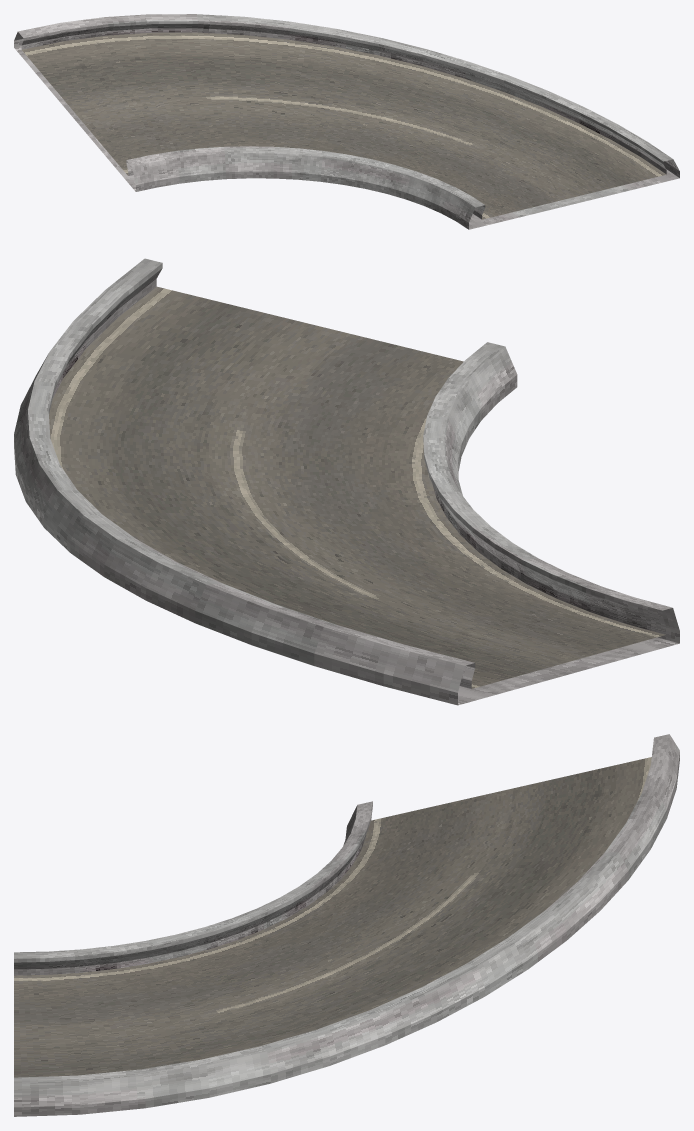
Rendered from road-Turn-Flat-HalfBankedLeft-Even-Left-Size2.glb.
3 views of the same model, one above another, from view 1: azimuth 30°, elevation 25°; view 2: azimuth 150°, elevation 25°; view 3: azimuth 270°, elevation 25° (orthographic). The views are drawn at different scales.
Visible parts, largest first — view 1: road-Turn-Flat-HalfBankedLeft-Even-Left-Size2; view 2: road-Turn-Flat-HalfBankedLeft-Even-Left-Size2; view 3: road-Turn-Flat-HalfBankedLeft-Even-Left-Size2.
Part boxes in pixels (bbox=[...]): road-Turn-Flat-HalfBankedLeft-Even-Left-Size2: bbox=[14, 14, 679, 229]; road-Turn-Flat-HalfBankedLeft-Even-Left-Size2: bbox=[14, 258, 679, 705]; road-Turn-Flat-HalfBankedLeft-Even-Left-Size2: bbox=[14, 734, 679, 1116].
Size of the model in its own units: 2 by 0.3359 by 2.
Materials: 2 (2 with a texture image).
